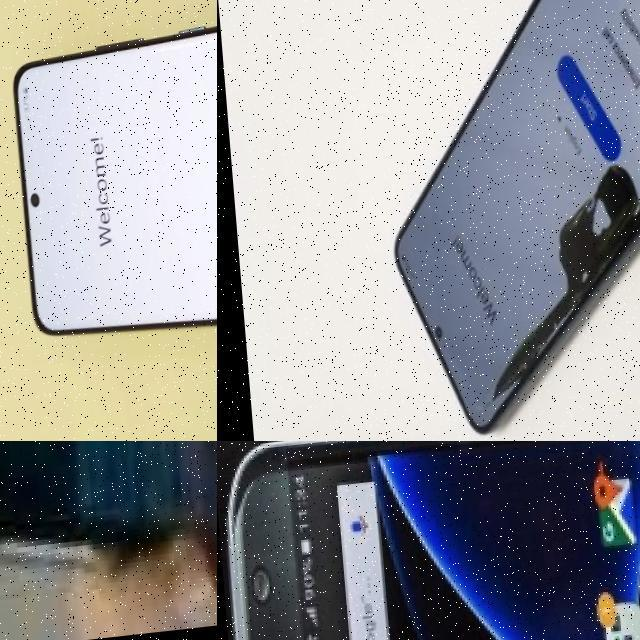dead pixel: (452, 146, 640, 441)
